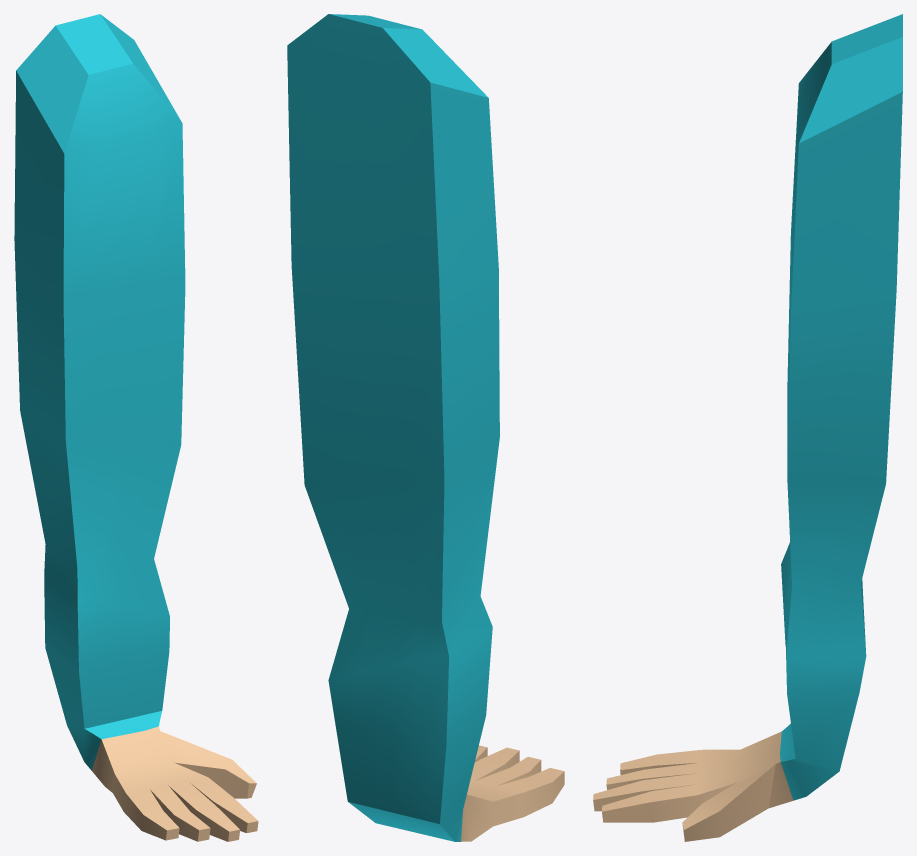
The model's file is arm90longer.fbx.
The picture shows the model from 3 angles, left to right: view 1: azimuth 30°, elevation 25°; view 2: azimuth 150°, elevation 25°; view 3: azimuth 270°, elevation 25°; orthographic projection. The views are drawn at different scales.
Parts seen in each view (by area): view 1: Arm90Longer; view 2: Arm90Longer; view 3: Arm90Longer.
Boxes of the visible parts, box(x1,y1,x2,y2) form: Arm90Longer: box(14, 14, 258, 841); Arm90Longer: box(287, 14, 564, 841); Arm90Longer: box(593, 14, 902, 841).
Bounding box in the file's own units: 342 × 1645 × 592.
